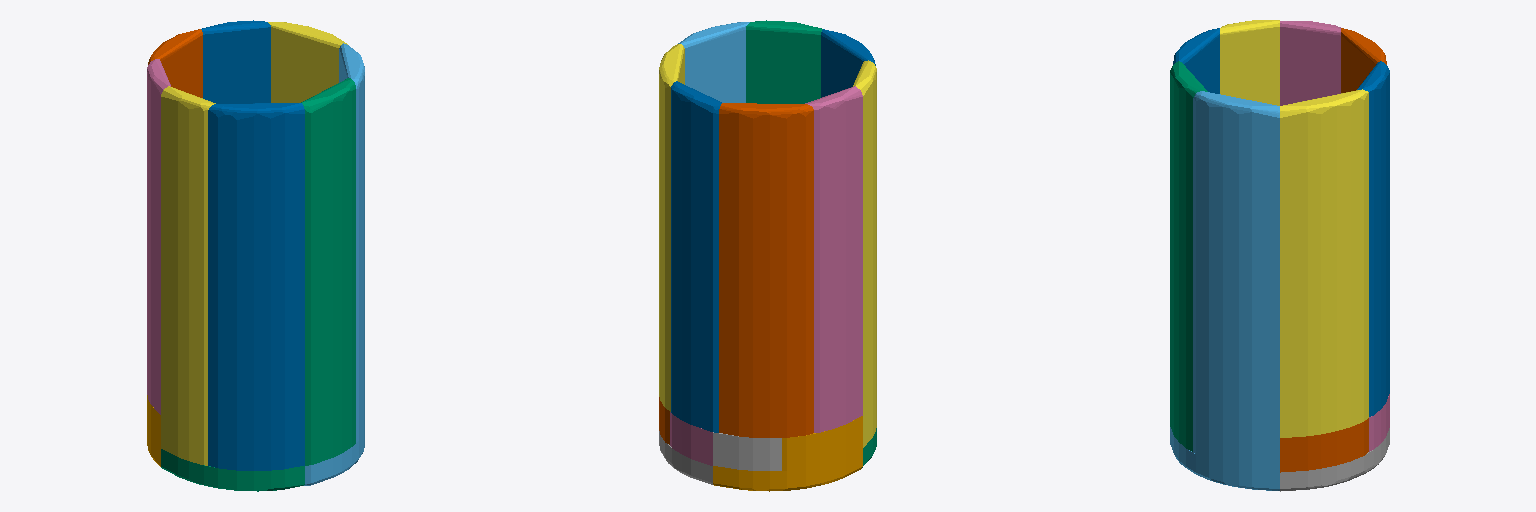
The robot description file, URDF, robot "sem-Cup-d8ea3aa39bcb162798910e50f05b8001":
<?xml version="1.0"?>
<robot name="sem-Cup-d8ea3aa39bcb162798910e50f05b8001">
  <link name="object_root"/>
  <link name="convex_piece_000">
    <visual><geometry><mesh filename="pieces/piece_000.obj"/></geometry></visual>
    <collision><geometry><mesh filename="pieces/piece_000.obj"/></geometry></collision>
  </link>
  <joint name="piece_joint_000" type="fixed">
    <parent link="object_root"/>
    <child link="convex_piece_000"/>
    <origin xyz="0 0 0" rpy="0 0 0"/>
  </joint>
  <link name="convex_piece_001">
    <visual><geometry><mesh filename="pieces/piece_001.obj"/></geometry></visual>
    <collision><geometry><mesh filename="pieces/piece_001.obj"/></geometry></collision>
  </link>
  <joint name="piece_joint_001" type="fixed">
    <parent link="object_root"/>
    <child link="convex_piece_001"/>
    <origin xyz="0 0 0" rpy="0 0 0"/>
  </joint>
  <link name="convex_piece_002">
    <visual><geometry><mesh filename="pieces/piece_002.obj"/></geometry></visual>
    <collision><geometry><mesh filename="pieces/piece_002.obj"/></geometry></collision>
  </link>
  <joint name="piece_joint_002" type="fixed">
    <parent link="object_root"/>
    <child link="convex_piece_002"/>
    <origin xyz="0 0 0" rpy="0 0 0"/>
  </joint>
  <link name="convex_piece_003">
    <visual><geometry><mesh filename="pieces/piece_003.obj"/></geometry></visual>
    <collision><geometry><mesh filename="pieces/piece_003.obj"/></geometry></collision>
  </link>
  <joint name="piece_joint_003" type="fixed">
    <parent link="object_root"/>
    <child link="convex_piece_003"/>
    <origin xyz="0 0 0" rpy="0 0 0"/>
  </joint>
  <link name="convex_piece_004">
    <visual><geometry><mesh filename="pieces/piece_004.obj"/></geometry></visual>
    <collision><geometry><mesh filename="pieces/piece_004.obj"/></geometry></collision>
  </link>
  <joint name="piece_joint_004" type="fixed">
    <parent link="object_root"/>
    <child link="convex_piece_004"/>
    <origin xyz="0 0 0" rpy="0 0 0"/>
  </joint>
  <link name="convex_piece_005">
    <visual><geometry><mesh filename="pieces/piece_005.obj"/></geometry></visual>
    <collision><geometry><mesh filename="pieces/piece_005.obj"/></geometry></collision>
  </link>
  <joint name="piece_joint_005" type="fixed">
    <parent link="object_root"/>
    <child link="convex_piece_005"/>
    <origin xyz="0 0 0" rpy="0 0 0"/>
  </joint>
  <link name="convex_piece_006">
    <visual><geometry><mesh filename="pieces/piece_006.obj"/></geometry></visual>
    <collision><geometry><mesh filename="pieces/piece_006.obj"/></geometry></collision>
  </link>
  <joint name="piece_joint_006" type="fixed">
    <parent link="object_root"/>
    <child link="convex_piece_006"/>
    <origin xyz="0 0 0" rpy="0 0 0"/>
  </joint>
  <link name="convex_piece_007">
    <visual><geometry><mesh filename="pieces/piece_007.obj"/></geometry></visual>
    <collision><geometry><mesh filename="pieces/piece_007.obj"/></geometry></collision>
  </link>
  <joint name="piece_joint_007" type="fixed">
    <parent link="object_root"/>
    <child link="convex_piece_007"/>
    <origin xyz="0 0 0" rpy="0 0 0"/>
  </joint>
  <link name="convex_piece_008">
    <visual><geometry><mesh filename="pieces/piece_008.obj"/></geometry></visual>
    <collision><geometry><mesh filename="pieces/piece_008.obj"/></geometry></collision>
  </link>
  <joint name="piece_joint_008" type="fixed">
    <parent link="object_root"/>
    <child link="convex_piece_008"/>
    <origin xyz="0 0 0" rpy="0 0 0"/>
  </joint>
  <link name="convex_piece_009">
    <visual><geometry><mesh filename="pieces/piece_009.obj"/></geometry></visual>
    <collision><geometry><mesh filename="pieces/piece_009.obj"/></geometry></collision>
  </link>
  <joint name="piece_joint_009" type="fixed">
    <parent link="object_root"/>
    <child link="convex_piece_009"/>
    <origin xyz="0 0 0" rpy="0 0 0"/>
  </joint>
  <link name="convex_piece_010">
    <visual><geometry><mesh filename="pieces/piece_010.obj"/></geometry></visual>
    <collision><geometry><mesh filename="pieces/piece_010.obj"/></geometry></collision>
  </link>
  <joint name="piece_joint_010" type="fixed">
    <parent link="object_root"/>
    <child link="convex_piece_010"/>
    <origin xyz="0 0 0" rpy="0 0 0"/>
  </joint>
  <link name="convex_piece_011">
    <visual><geometry><mesh filename="pieces/piece_011.obj"/></geometry></visual>
    <collision><geometry><mesh filename="pieces/piece_011.obj"/></geometry></collision>
  </link>
  <joint name="piece_joint_011" type="fixed">
    <parent link="object_root"/>
    <child link="convex_piece_011"/>
    <origin xyz="0 0 0" rpy="0 0 0"/>
  </joint>
  <link name="convex_piece_012">
    <visual><geometry><mesh filename="pieces/piece_012.obj"/></geometry></visual>
    <collision><geometry><mesh filename="pieces/piece_012.obj"/></geometry></collision>
  </link>
  <joint name="piece_joint_012" type="fixed">
    <parent link="object_root"/>
    <child link="convex_piece_012"/>
    <origin xyz="0 0 0" rpy="0 0 0"/>
  </joint>
  <link name="convex_piece_013">
    <visual><geometry><mesh filename="pieces/piece_013.obj"/></geometry></visual>
    <collision><geometry><mesh filename="pieces/piece_013.obj"/></geometry></collision>
  </link>
  <joint name="piece_joint_013" type="fixed">
    <parent link="object_root"/>
    <child link="convex_piece_013"/>
    <origin xyz="0 0 0" rpy="0 0 0"/>
  </joint>
  <link name="convex_piece_014">
    <visual><geometry><mesh filename="pieces/piece_014.obj"/></geometry></visual>
    <collision><geometry><mesh filename="pieces/piece_014.obj"/></geometry></collision>
  </link>
  <joint name="piece_joint_014" type="fixed">
    <parent link="object_root"/>
    <child link="convex_piece_014"/>
    <origin xyz="0 0 0" rpy="0 0 0"/>
  </joint>
  <link name="convex_piece_015">
    <visual><geometry><mesh filename="pieces/piece_015.obj"/></geometry></visual>
    <collision><geometry><mesh filename="pieces/piece_015.obj"/></geometry></collision>
  </link>
  <joint name="piece_joint_015" type="fixed">
    <parent link="object_root"/>
    <child link="convex_piece_015"/>
    <origin xyz="0 0 0" rpy="0 0 0"/>
  </joint>
</robot>

--- What the picture shows (computed from the rendered views, not written in the file) ---
Views: 3 orthographic renders of the robot side by side, from view 1: azimuth 30°, elevation 25°; view 2: azimuth 150°, elevation 25°; view 3: azimuth 270°, elevation 25°.
Model sem-Cup-d8ea3aa39bcb162798910e50f05b8001 with 17 links and 16 joints (16 fixed), rooted at object_root, posed all joints at 0.
Links seen in each view (by area): view 1: convex_piece_011, convex_piece_009, convex_piece_010, convex_piece_003, convex_piece_005, convex_piece_002, convex_piece_008, convex_piece_001, convex_piece_004, convex_piece_000; view 2: convex_piece_004, convex_piece_005, convex_piece_003, convex_piece_009, convex_piece_010, convex_piece_002, convex_piece_008, convex_piece_007, convex_piece_015, convex_piece_011, convex_piece_014, convex_piece_013 (+1 smaller); view 3: convex_piece_008, convex_piece_002, convex_piece_009, convex_piece_003, convex_piece_005, convex_piece_010, convex_piece_012, convex_piece_000, convex_piece_006, convex_piece_011, convex_piece_004, convex_piece_013.
Boxes of the visible links, <box> form: convex_piece_011: <box>208,103,304,470</box>; convex_piece_009: <box>301,78,355,465</box>; convex_piece_010: <box>161,86,215,465</box>; convex_piece_003: <box>201,20,270,103</box>; convex_piece_005: <box>147,59,170,414</box>; convex_piece_002: <box>268,22,347,102</box>; convex_piece_008: <box>339,43,364,442</box>; convex_piece_001: <box>161,449,304,491</box>; convex_piece_004: <box>148,29,202,97</box>; convex_piece_000: <box>304,430,364,485</box>; convex_piece_004: <box>719,103,813,437</box>; convex_piece_005: <box>805,86,862,432</box>; convex_piece_003: <box>671,81,721,432</box>; convex_piece_009: <box>746,20,822,103</box>; convex_piece_010: <box>853,60,876,447</box>; convex_piece_002: <box>659,44,684,411</box>; convex_piece_008: <box>678,22,749,102</box>; convex_piece_007: <box>713,449,862,491</box>; convex_piece_015: <box>782,416,862,470</box>; convex_piece_011: <box>821,29,875,97</box>; convex_piece_014: <box>713,432,781,470</box>; convex_piece_013: <box>670,412,712,465</box>; convex_piece_008: <box>1193,91,1279,470</box>; convex_piece_002: <box>1280,89,1368,437</box>; convex_piece_009: <box>1170,61,1207,451</box>; convex_piece_003: <box>1357,61,1389,416</box>; convex_piece_005: <box>1280,21,1340,105</box>; convex_piece_010: <box>1220,20,1279,105</box>; convex_piece_012: <box>1280,418,1368,472</box>; convex_piece_000: <box>1170,427,1279,490</box>; convex_piece_006: <box>1280,428,1389,491</box>; convex_piece_011: <box>1173,28,1219,93</box>; convex_piece_004: <box>1341,28,1386,92</box>; convex_piece_013: <box>1369,394,1389,451</box>.
Size in the robot's own frame: 0.0913 by 0.0913 by 0.175 metres.
16 mesh visuals loaded from 16 distinct referenced files (16 OBJ).
